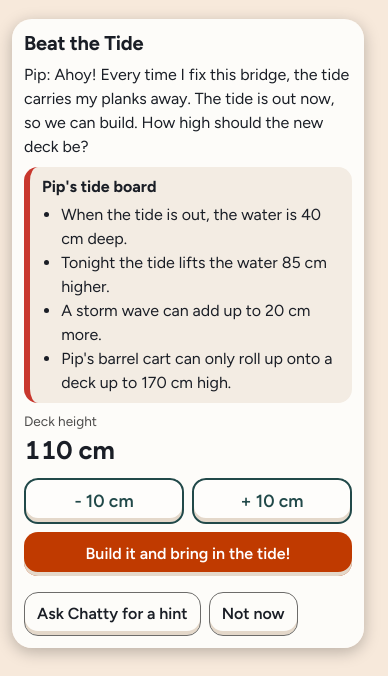
Scenario: TideTrialPanel › leaves the repaired bridge standing when the panel closes after a win
Click the button with aria-label "Raise the deck" at coordinates (272, 501), box [192,478,352,524]
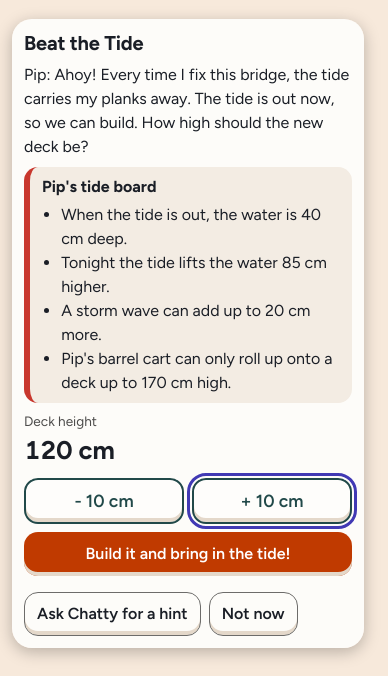
Click the button with aria-label "Raise the deck" at coordinates (272, 501), box [192,478,352,524]
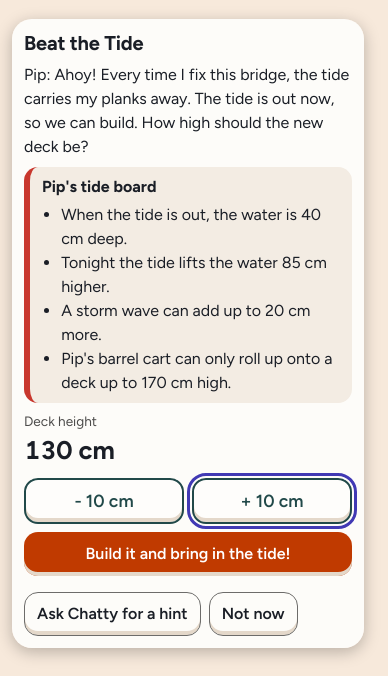
Click the button with aria-label "Raise the deck" at coordinates (272, 501), box [192,478,352,524]
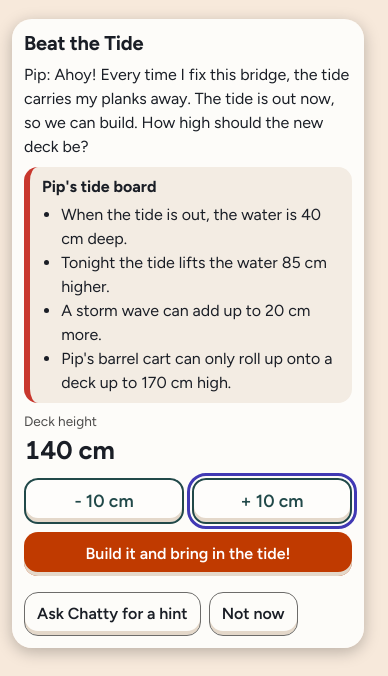
Click the button with aria-label "Raise the deck" at coordinates (272, 501), box [192,478,352,524]
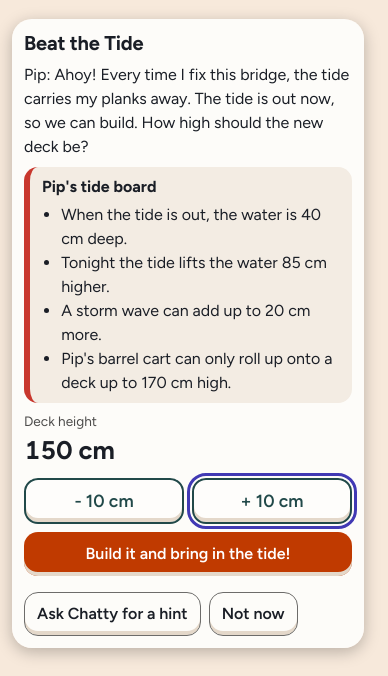
Click the button "Build it and bring in the tide!" at coordinates (188, 554), box [24,532,352,576]
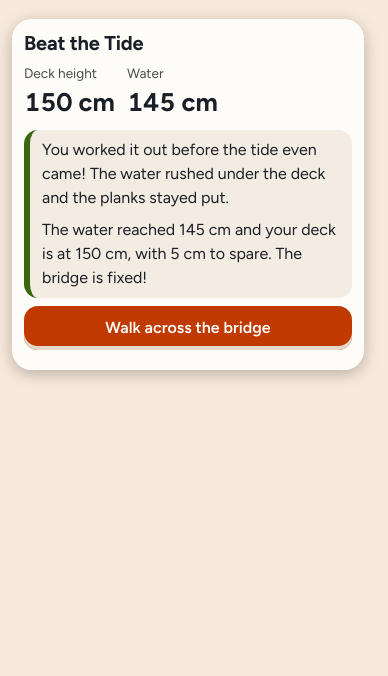
Expected: the button "Walk across the bridge" is shown, [24,306,352,350]
